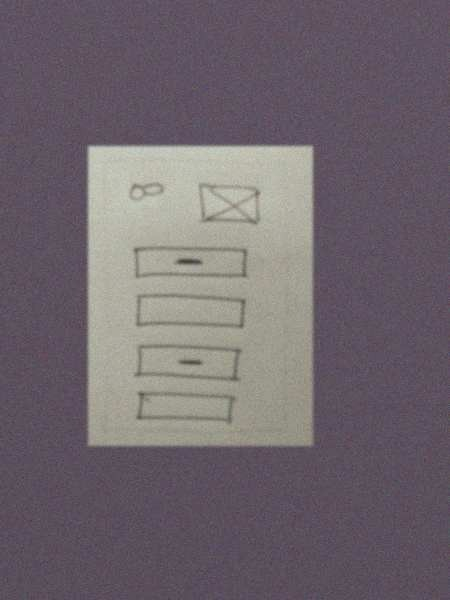button: (129, 241, 252, 284), (132, 342, 244, 384)
image: (195, 179, 263, 227)
switch: (126, 178, 167, 206)
text_input: (130, 290, 248, 332), (134, 389, 237, 427)
